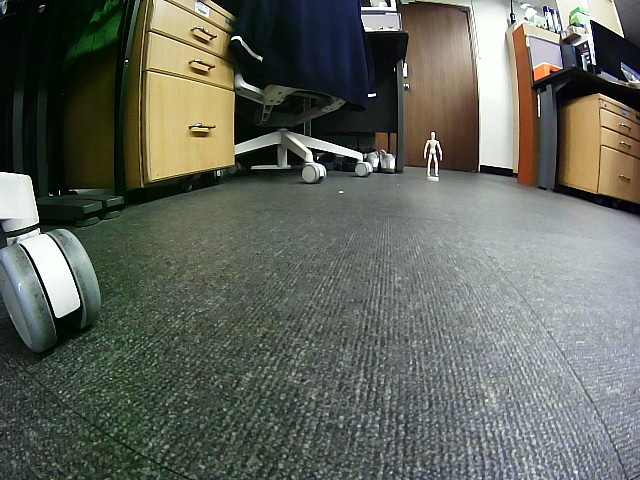person: (423, 132, 442, 177)
